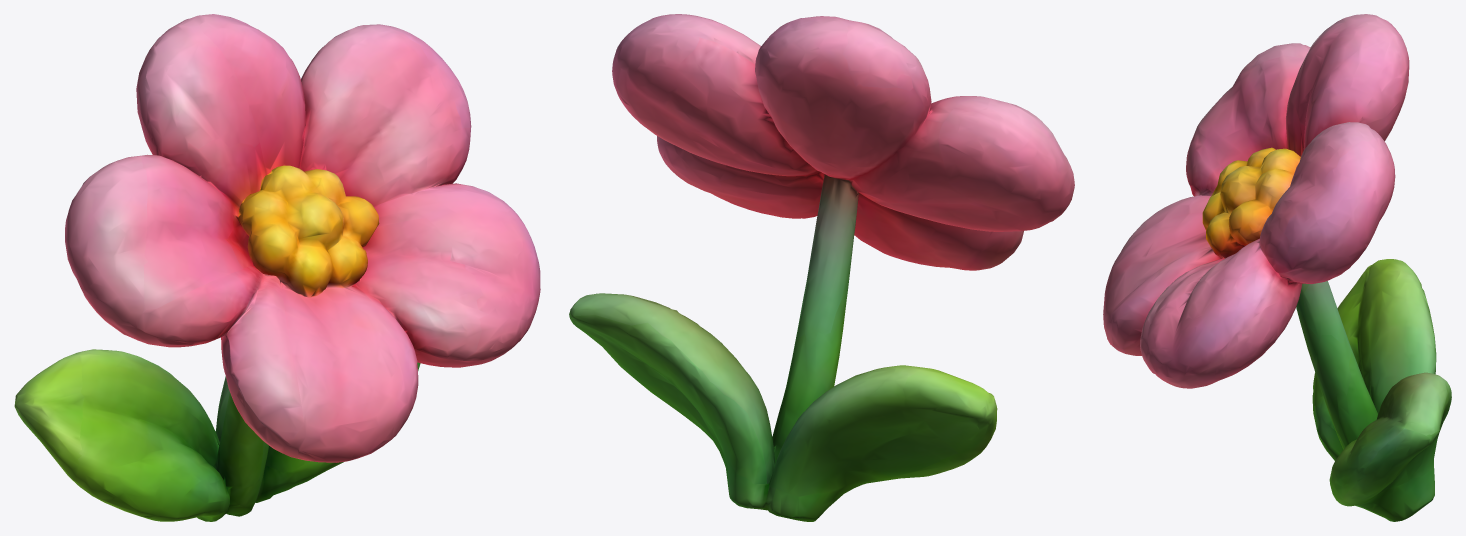
Rendered from flower.glb.
The picture shows the model from 3 angles, left to right: view 1: azimuth 30°, elevation 25°; view 2: azimuth 150°, elevation 25°; view 3: azimuth 270°, elevation 25°; orthographic projection. The views are drawn at different scales.
Bounding box in the file's own units: 0.8901 × 1 × 0.6749.
Materials: 1 (1 with a texture image).
